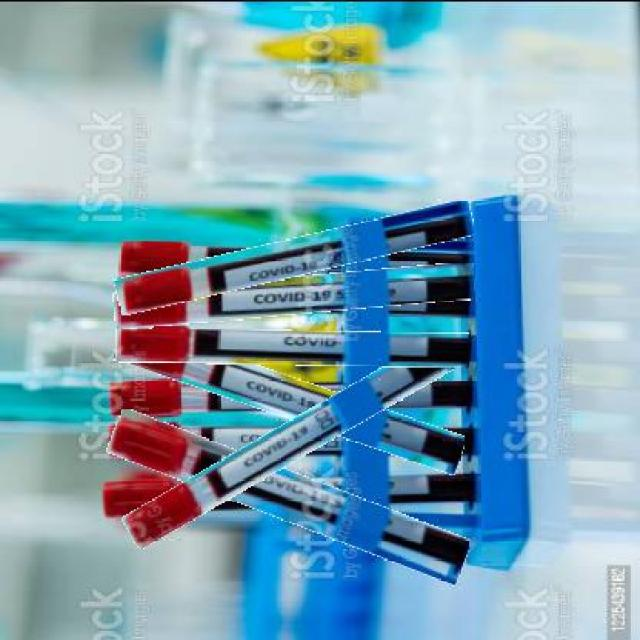Experimental-tube: (114, 376, 468, 504), (104, 438, 473, 551), (111, 347, 469, 445), (114, 217, 477, 294), (114, 268, 475, 320), (115, 328, 471, 364)
